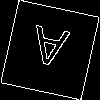A: (25, 25, 71, 77)
